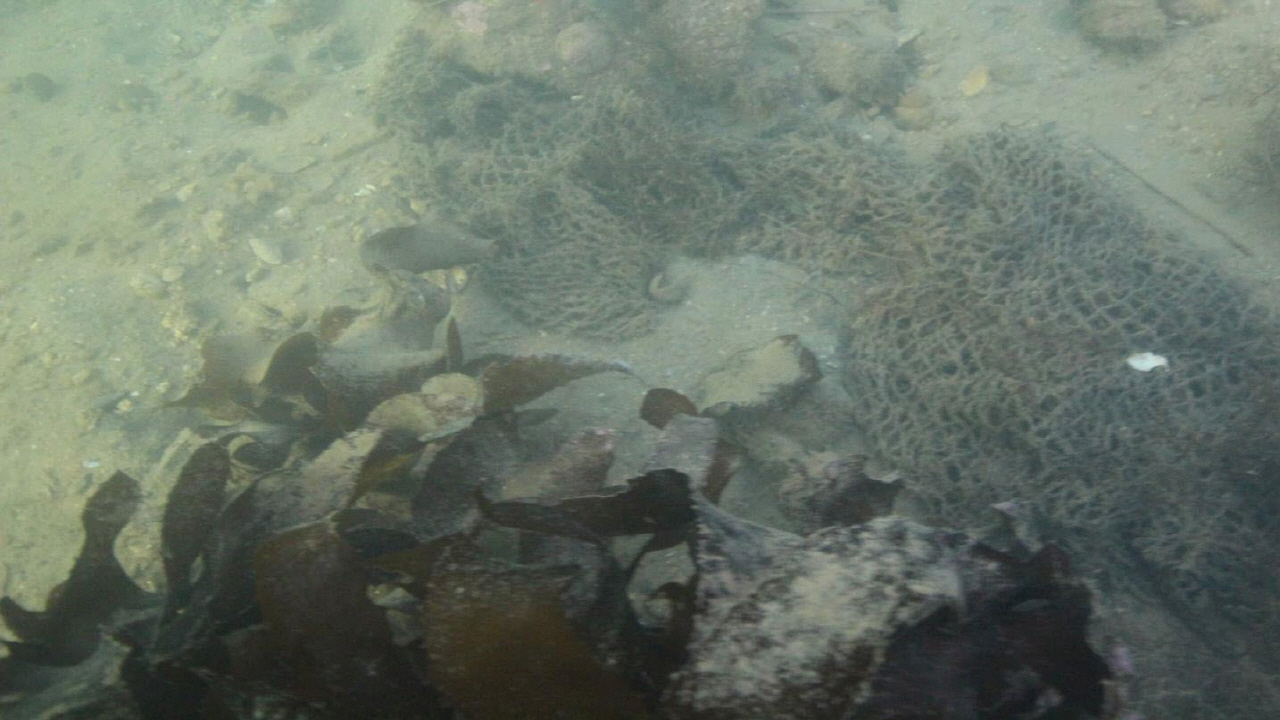fish net: (366, 25, 1280, 624)
